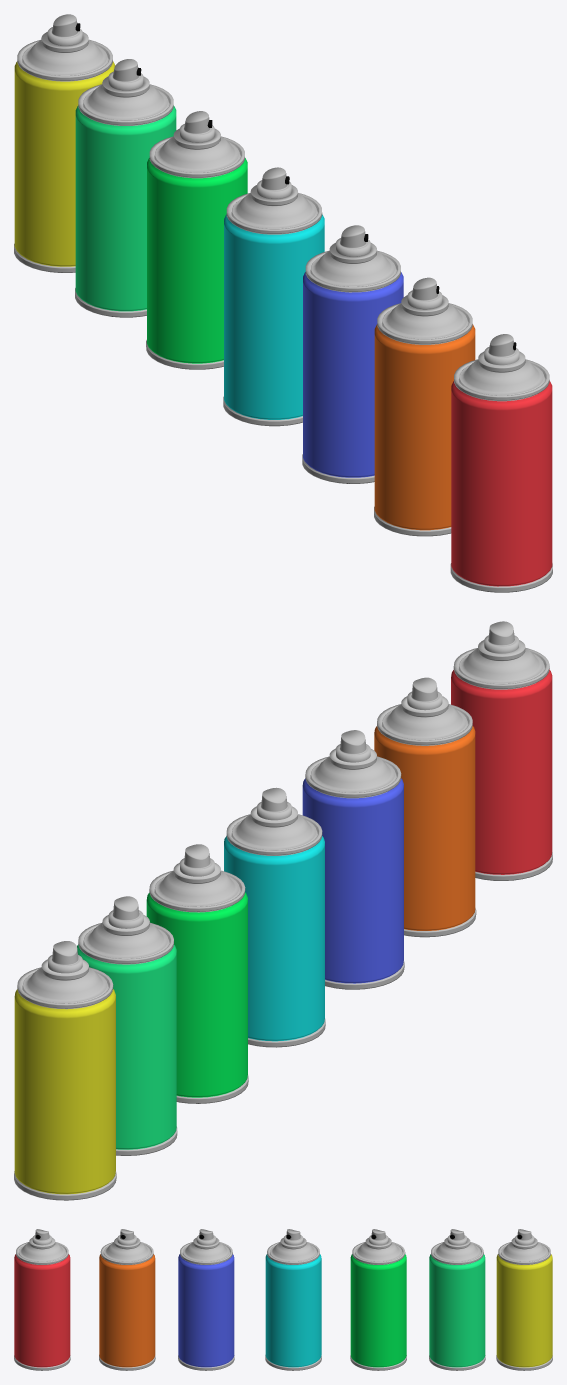
Rendered from _pray_cans.fbx.
3 renders of one model, top to bottom at view 1: azimuth 30°, elevation 25°; view 2: azimuth 150°, elevation 25°; view 3: azimuth 270°, elevation 25°, orthographic. The views are drawn at different scales.
Visible parts, largest first — view 1: red, cyan, orange, green, darker blue, mint, yello; view 2: yello, darker blue, red, cyan, orange, green, mint; view 3: cyan, green, mint, red, orange, darker blue, yello.
Boxes of the visible parts, <box> form: red: <box>450,334,552,592</box>; cyan: <box>223,167,324,426</box>; orange: <box>374,277,475,536</box>; green: <box>146,111,247,369</box>; darker blue: <box>302,225,403,483</box>; mint: <box>75,59,176,317</box>; yello: <box>14,14,115,272</box>; yello: <box>14,941,116,1200</box>; darker blue: <box>302,730,404,989</box>; red: <box>451,621,552,880</box>; cyan: <box>224,787,325,1047</box>; orange: <box>374,677,476,937</box>; green: <box>146,844,248,1103</box>; mint: <box>77,896,177,1155</box>; cyan: <box>265,1229,321,1370</box>; green: <box>350,1229,406,1370</box>; mint: <box>429,1229,485,1370</box>; red: <box>14,1229,70,1370</box>; orange: <box>99,1229,155,1370</box>; darker blue: <box>178,1229,234,1370</box>; yello: <box>496,1229,552,1370</box>.
Bounding box in the file's own units: 135 × 337 × 1280.
